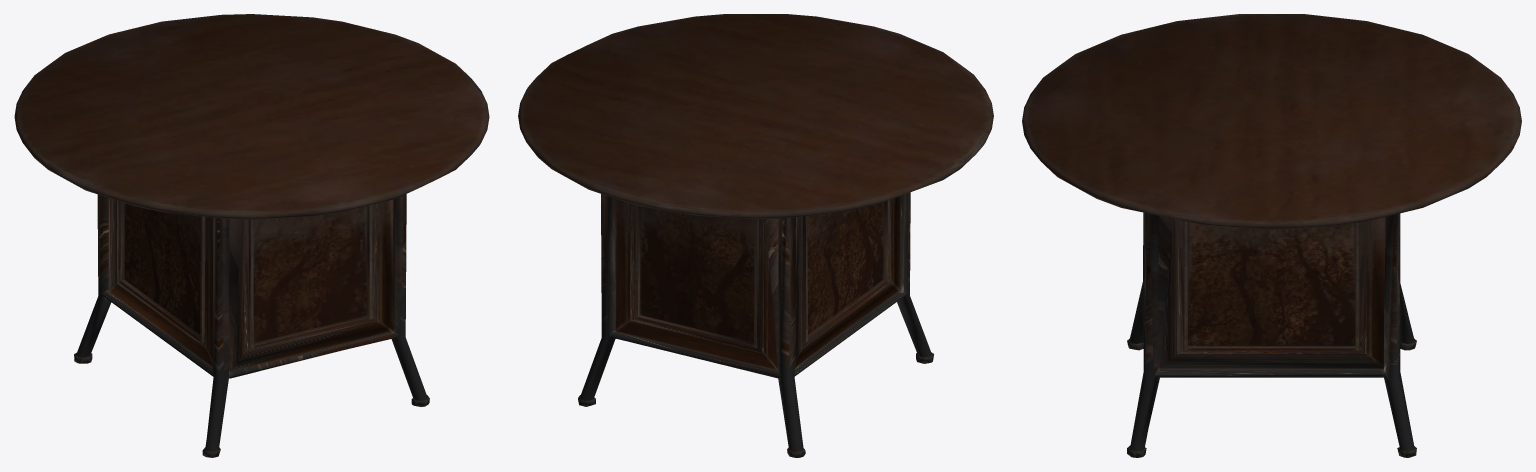
Rendered from round_wooden_table_02_lod2.glb.
3 views of the same model, side by side, from view 1: azimuth 30°, elevation 25°; view 2: azimuth 150°, elevation 25°; view 3: azimuth 270°, elevation 25° (orthographic). The views are drawn at different scales.
Visible parts, largest first — view 1: round_wooden_table_02; view 2: round_wooden_table_02; view 3: round_wooden_table_02.
Part boxes in pixels (<box>): round_wooden_table_02: <box>14,14,489,457</box>; round_wooden_table_02: <box>518,14,993,457</box>; round_wooden_table_02: <box>1022,14,1521,457</box>.
Bounding box in the file's own units: 1.2 × 0.749 × 1.2.
1 material, 1 textured.
